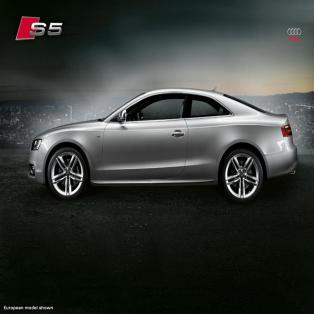Auto: (27, 86, 298, 204)
